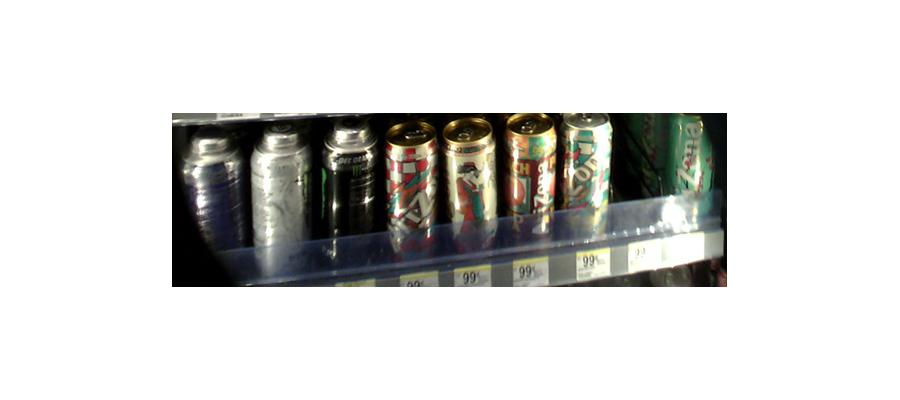bottle: (182, 128, 249, 272), (251, 128, 312, 274), (318, 122, 379, 263), (385, 122, 438, 264), (502, 116, 557, 249), (445, 121, 498, 258), (560, 110, 612, 245), (658, 115, 706, 231)
